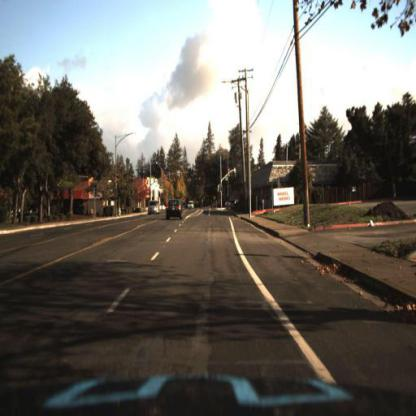car: (164, 198, 185, 223), (146, 200, 162, 218), (187, 199, 196, 212)
trafficLight-Red: (198, 176, 203, 188)
